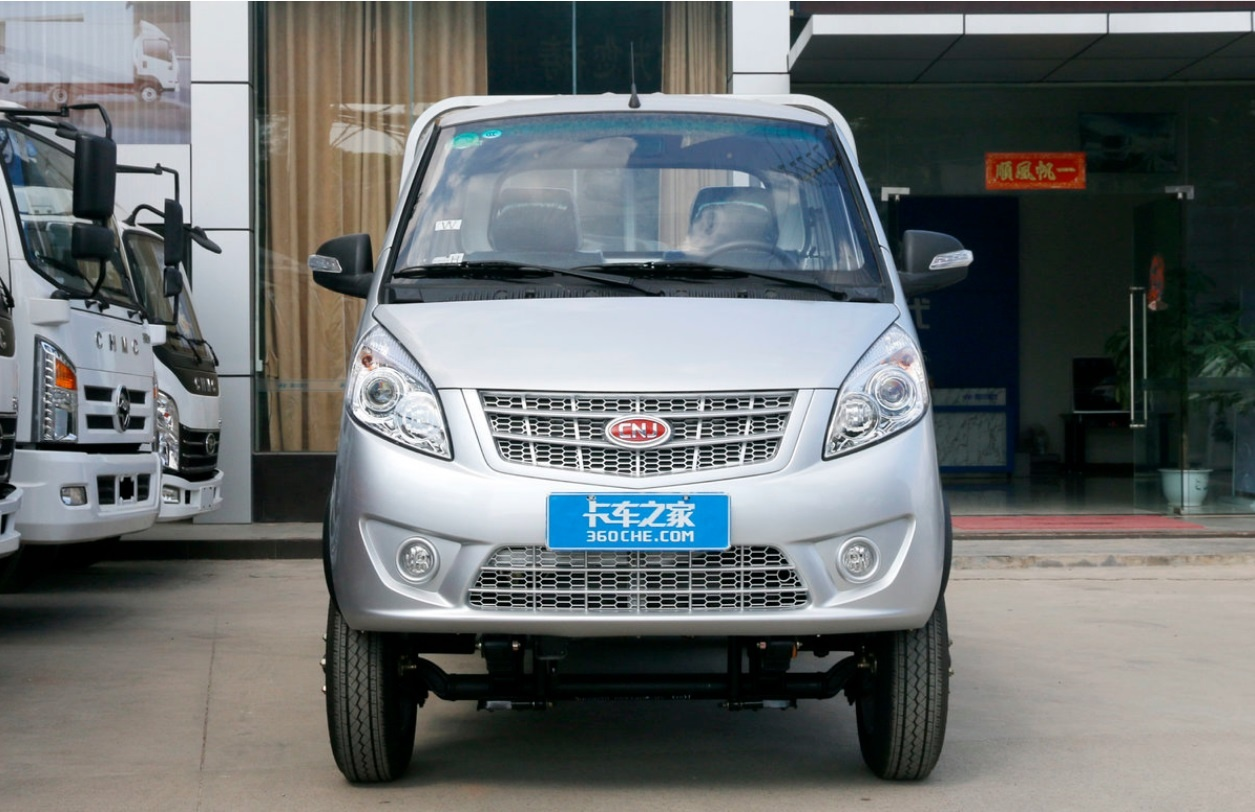minibus: (295, 58, 992, 789)
